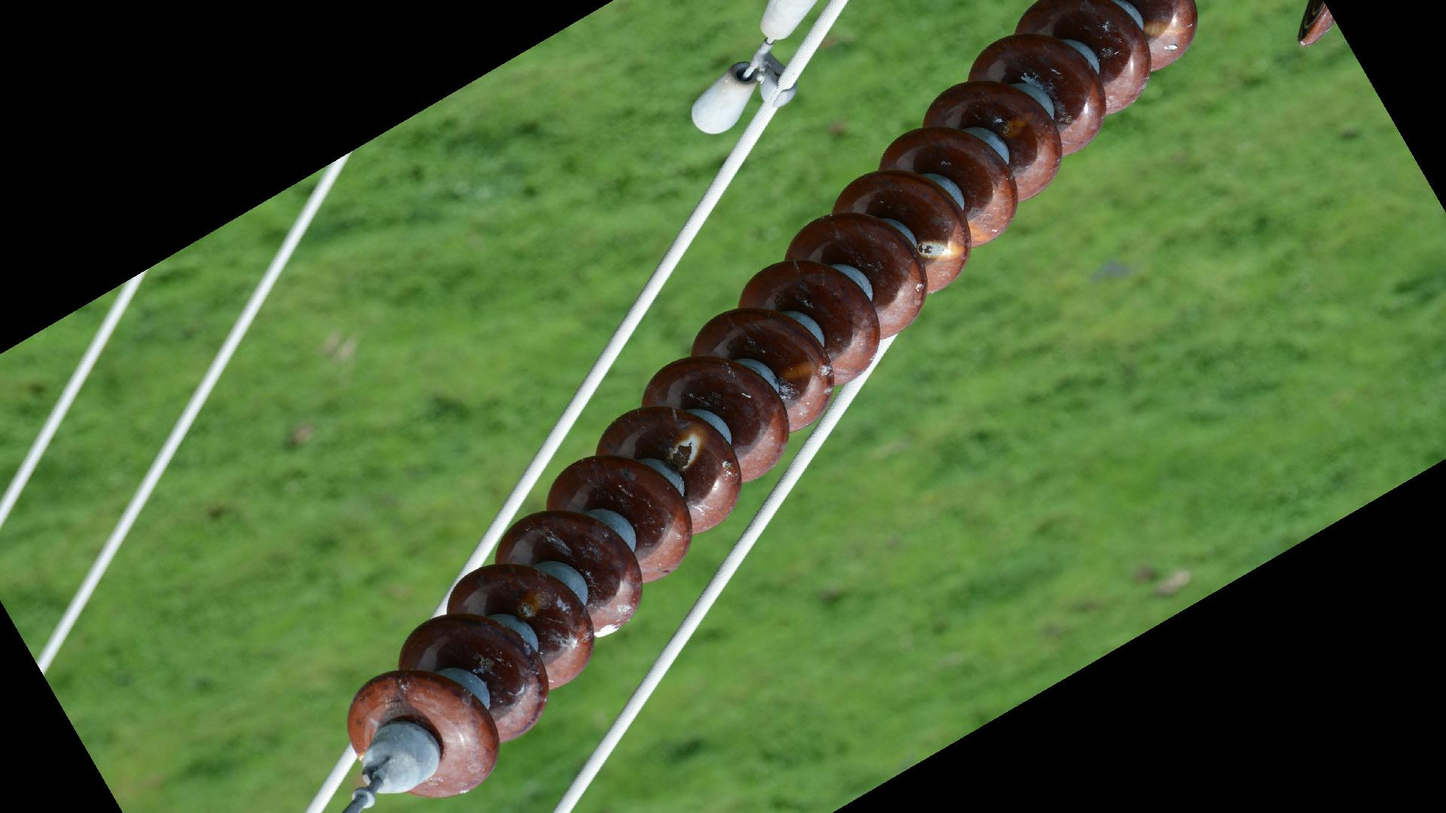insulator: (341, 1, 1201, 803)
insulator_flashover: (667, 429, 707, 473), (912, 235, 969, 264)
